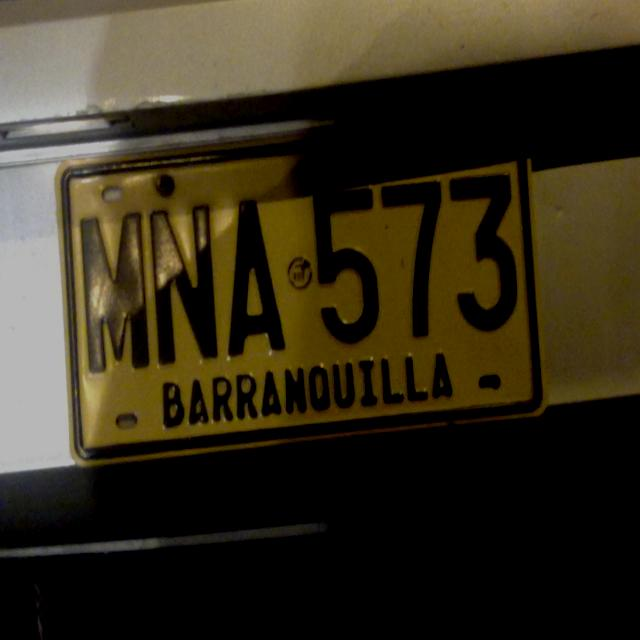placa: (51, 106, 548, 470)
